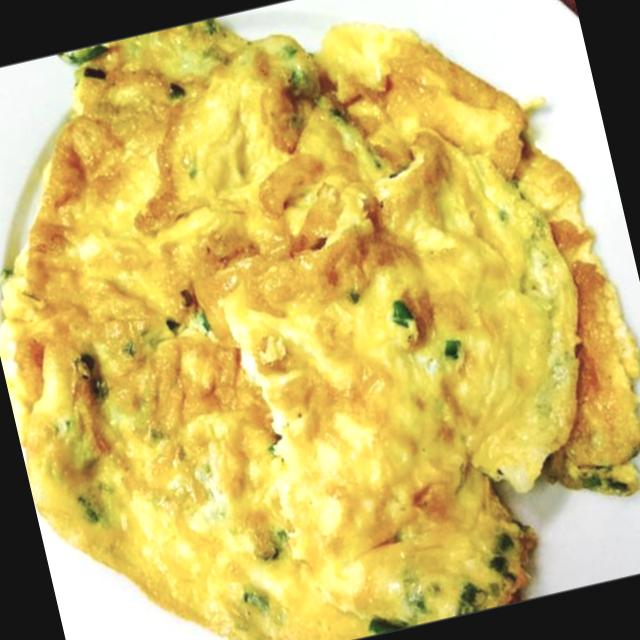trung chien: (0, 20, 640, 640)
